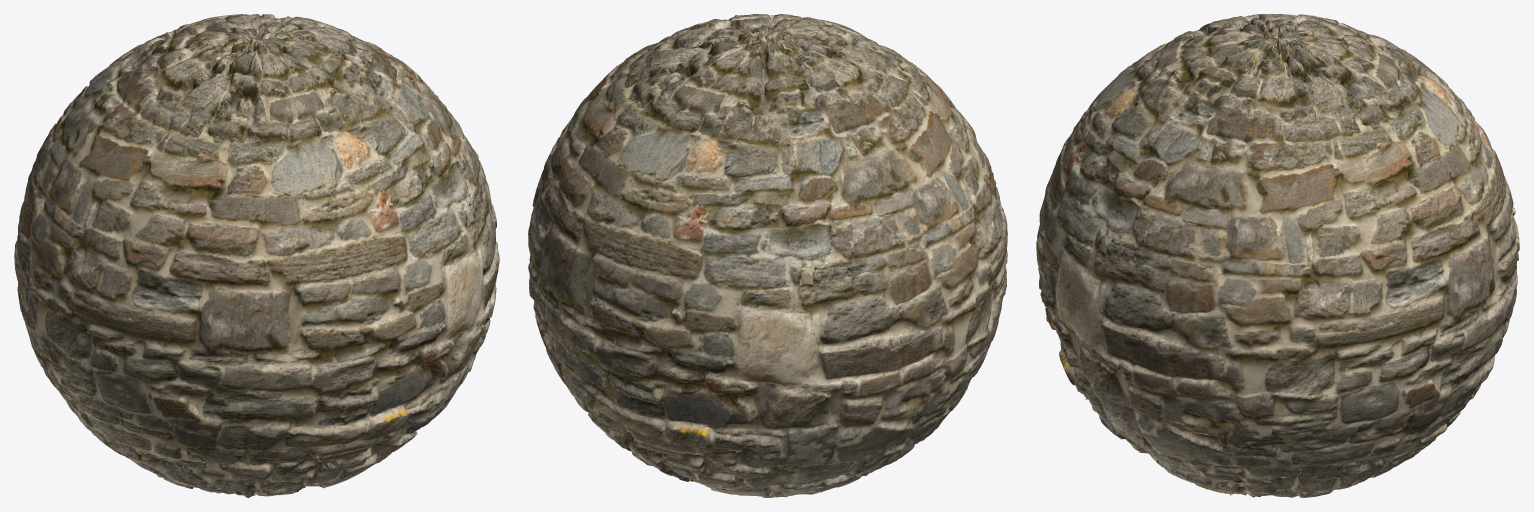
The model's file is castle_wall_slates_1k.gltf.
The picture shows the model from 3 angles, left to right: view 1: azimuth 30°, elevation 25°; view 2: azimuth 150°, elevation 25°; view 3: azimuth 270°, elevation 25°; orthographic projection.
Parts seen in each view (by area): view 1: sphere_gltf; view 2: sphere_gltf; view 3: sphere_gltf.
Boxes of the visible parts, left/top/right/bottom form: sphere_gltf: left=14, top=14, right=499, bottom=497; sphere_gltf: left=528, top=14, right=1007, bottom=497; sphere_gltf: left=1036, top=14, right=1519, bottom=497.
Bounding box in the file's own units: 2.52 × 2.52 × 2.51.
Materials: 1 (1 with a texture image).
